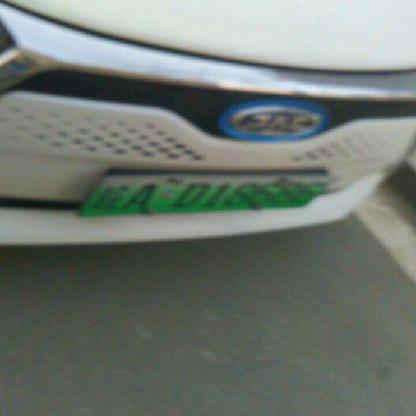lp: (80, 176, 336, 214)
